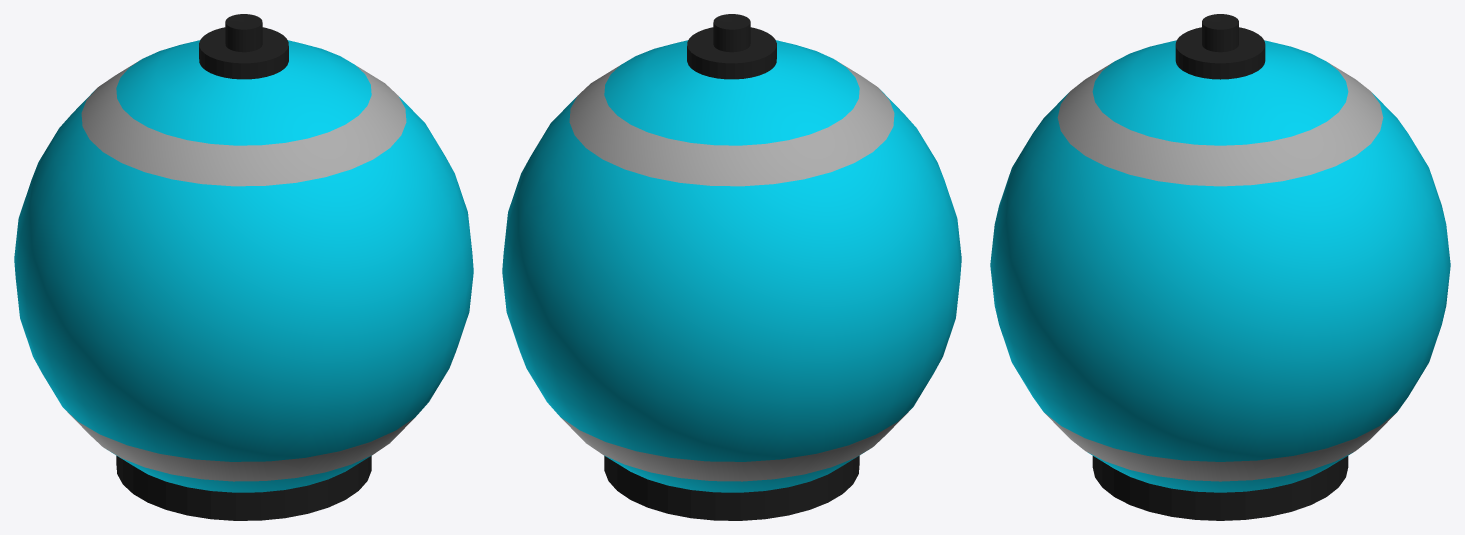
File: SM_TankerPod.FBX
3 views of the same model, side by side, from view 1: azimuth 30°, elevation 25°; view 2: azimuth 150°, elevation 25°; view 3: azimuth 270°, elevation 25° (orthographic).
Visible parts, largest first — view 1: Sphere006; view 2: Sphere006; view 3: Sphere006.
Part boxes in pixels (x1=…): Sphere006: x1=14, y1=14, x2=473, y2=520; Sphere006: x1=502, y1=14, x2=961, y2=520; Sphere006: x1=990, y1=14, x2=1450, y2=520.
Size of the model in its own units: 7078 by 7549 by 7078.
